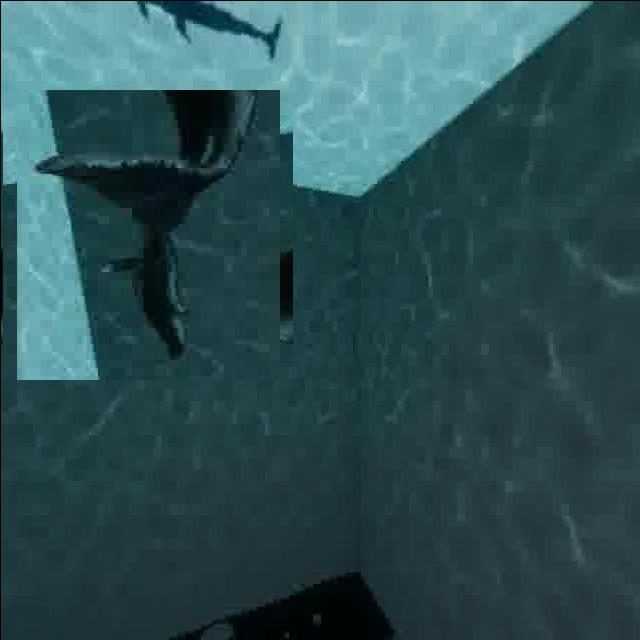Whale: (8, 95, 286, 372)
